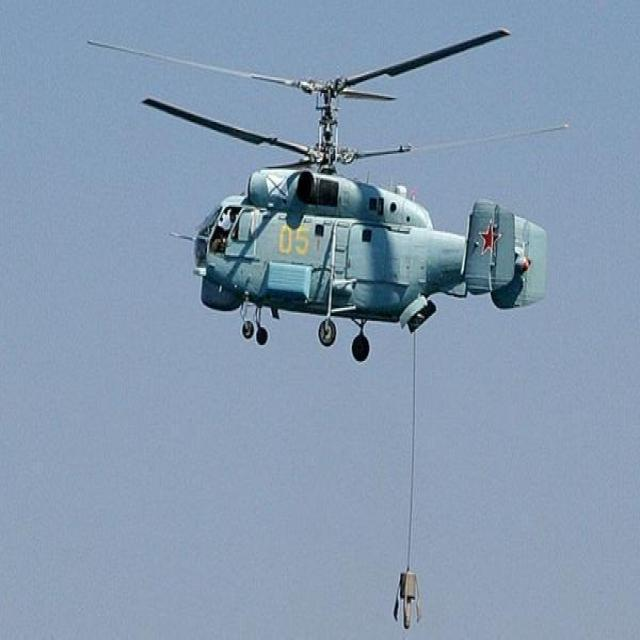MIL_HELO: (69, 3, 585, 363)
